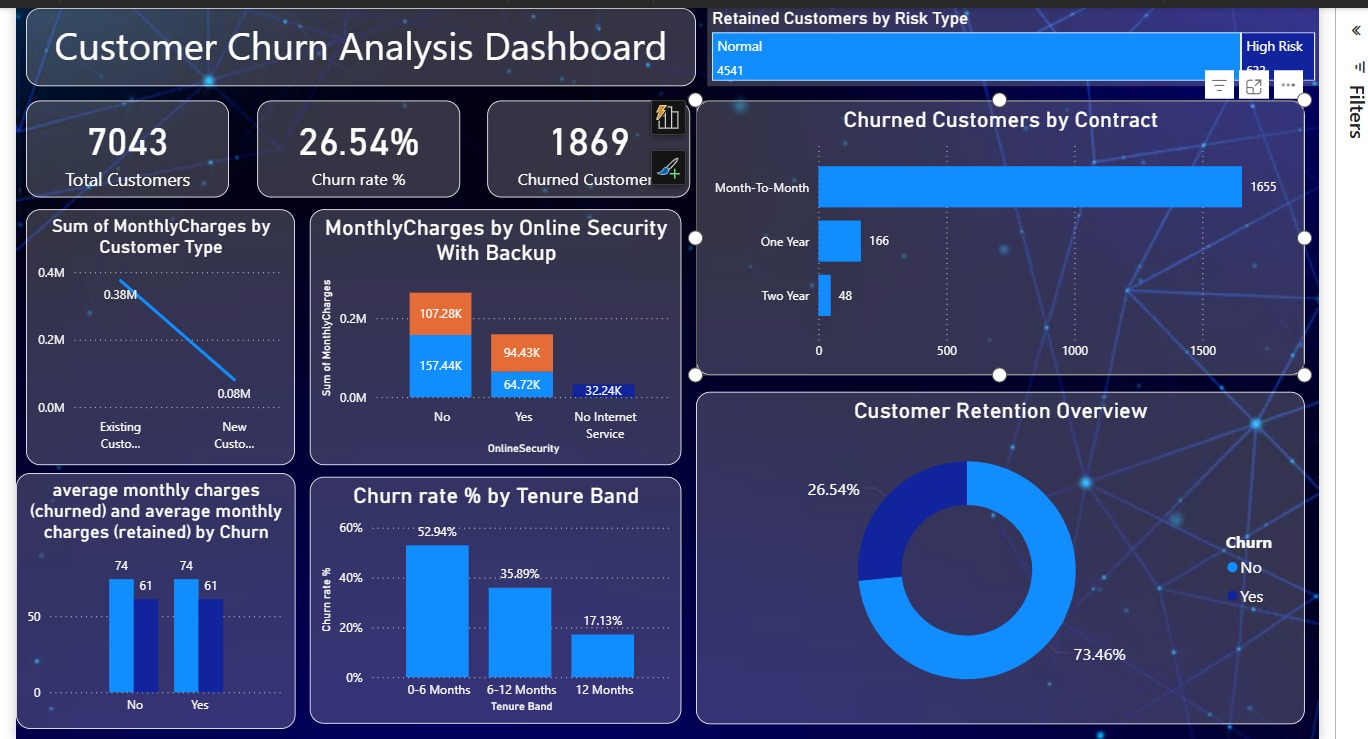

This screenshot's page, from the dashboard's own definition file:
{"tool":"powerbi","page":{"name":"Page 1","canvas":[1280,720],"ordinal":0},"visuals":[{"type":"textbox","box":[10.1,0,657.9,76.5],"z":0},{"type":"treemap","fields":{"Group":["churn.Risk Type"],"Values":["Measuress.Retained Customers"]},"box":[678.1,0,601.6,76.5],"z":1000},{"type":"card","fields":{"Values":["Measuress.Total Customers"]},"box":[10.1,90.9,199.1,95],"z":2000},{"type":"card","fields":{"Values":["Measuress.Churned rate %"]},"box":[236.7,90.9,199,95],"z":3000},{"type":"card","fields":{"Values":["Measuress.Churned Customers"]},"box":[463.1,90.9,199,95],"z":4000},{"type":"donutChart","title":"Customer Retention Overview","fields":{"Category":["churn.Churn"],"Y":["Measuress.Total Customers","Measuress.Total Customers"]},"box":[668,376.6,597.3,326.1],"z":5000},{"type":"barChart","fields":{"Category":["churn.Contract"],"Y":["Measuress.Churned Customers"]},"box":[668,90.9,597.3,269.8],"z":5001},{"type":"columnChart","title":"MonthlyCharges by Online Security  With Backup","fields":{"Category":["churn.OnlineSecurity"],"Series":["churn.OnlineBackup"],"Y":["Sum(churn.MonthlyCharges)"]},"box":[288.6,197.7,365,251],"z":5002},{"type":"columnChart","fields":{"Category":["churn.Tenure Band"],"Y":["Measuress.Churn rate %"]},"box":[288.6,460.2,365,242.4],"z":5003},{"type":"clusteredColumnChart","fields":{"Category":["churn.Churn"],"Y":["Measuress.average monthly charges (churned)","Measuress.average monthly charges (retained)"]},"box":[0,455.9,274.1,251],"z":5004},{"type":"lineChart","fields":{"Category":["churn.Customer Type"],"Y":["Sum(churn.MonthlyCharges)"]},"box":[10.1,197.7,264,251],"z":5005}]}

Visuals, with their boxes in screenshot pixels (x1, y1, x2, y2):
textbox: (x1=24, y1=7, x2=689, y2=84)
treemap - churn.Risk Type x Measuress.Retained Customers: (x1=699, y1=7, x2=1307, y2=84)
card - Measuress.Total Customers: (x1=24, y1=99, x2=226, y2=195)
card - Measuress.Churned rate %: (x1=253, y1=99, x2=454, y2=195)
card - Measuress.Churned Customers: (x1=482, y1=99, x2=683, y2=195)
"Customer Retention Overview" donutChart: (x1=689, y1=388, x2=1292, y2=717)
barChart - churn.Contract x Measuress.Churned Customers: (x1=689, y1=99, x2=1292, y2=371)
"MonthlyCharges by Online Security  With Backup" columnChart: (x1=306, y1=207, x2=674, y2=460)
columnChart - churn.Tenure Band x Measuress.Churn rate %: (x1=306, y1=472, x2=674, y2=717)
clusteredColumnChart - churn.Churn x Measuress.average monthly charges (churned): (x1=14, y1=468, x2=291, y2=721)
lineChart - churn.Customer Type x Sum(churn.MonthlyCharges): (x1=24, y1=207, x2=291, y2=460)
